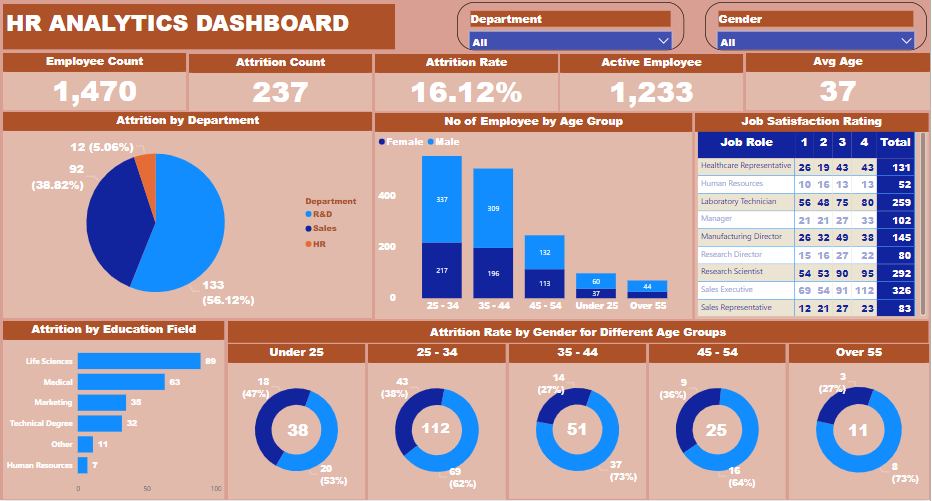

The page's visual inventory and layout, read from the dashboard file:
{"tool":"powerbi","page":{"name":"Page 1","canvas":[1580,850],"ordinal":0},"visuals":[{"type":"card","title":"Employee Count","fields":{"Values":["Sum(HR Table.Employee Count)"]},"box":[5,90.4,311.2,97],"z":0},{"type":"card","title":"Avg Age","fields":{"Values":["Avg(HR Table.Age)"]},"box":[1267.4,90,312.6,96.8],"z":1000},{"type":"card","title":"Attrition Count","fields":{"Values":["Sum(HR Table.Attrition Count)"]},"box":[321.3,92,311.2,97],"z":2000},{"type":"card","title":"Attrition Rate","fields":{"Values":["HR Table.Attrition Rate"]},"box":[637.5,92,311,97],"z":3000},{"type":"card","title":"Active Employee","fields":{"Values":["HR Table.Active Employeees"]},"box":[952.1,92,311,97],"z":4000},{"type":"pieChart","title":"Attrition by Department","fields":{"Category":["HR Table.Department"],"Y":["Sum(HR Table.Attrition Count)"]},"box":[5,190.7,627.5,349.7],"z":5000},{"type":"pivotTable","title":"Job Satisfaction Rating","fields":{"Rows":["HR Table.Job Role"],"Values":["Sum(HR Table.Employee Count)"],"Columns":["HR Table.Job Satisfaction"]},"box":[1181.3,192.4,396.6,349.7],"z":6000},{"type":"columnChart","title":"No of Employee by Age Group","fields":{"Category":["HR Table.CF_age band"],"Y":["Sum(HR Table.Employee Count)"],"Series":["HR Table.Gender"]},"box":[637.5,192.4,538.8,349.7],"z":7000},{"type":"barChart","title":"Attrition by Education Field","fields":{"Category":["HR Table.Education Field"],"Y":["Sum(HR Table.Attrition Count)"]},"box":[5,545.5,376.5,302.9],"z":8000},{"type":"donutChart","title":"Under 25","fields":{"Category":["HR Table.Gender"],"Y":["Sum(HR Table.Attrition Count)"],"Series":["HR Table.CF_age band"]},"box":[388.2,584,232.6,264.4],"z":9000},{"type":"donutChart","title":"25 - 34","fields":{"Category":["HR Table.Gender"],"Y":["Sum(HR Table.Attrition Count)"],"Series":["HR Table.CF_age band"]},"box":[625,584.4,234.1,265.5],"z":10000},{"type":"textbox","box":[388.2,545.5,1189.7,36.8],"z":11000},{"type":"donutChart","title":"35 - 44","fields":{"Category":["HR Table.Gender"],"Y":["Sum(HR Table.Attrition Count)"],"Series":["HR Table.CF_age band"]},"box":[864.8,584.4,232.8,263.3],"z":12000},{"type":"donutChart","title":"45 - 54","fields":{"Category":["HR Table.Gender"],"Y":["Sum(HR Table.Attrition Count)"],"Series":["HR Table.CF_age band"]},"box":[1102.5,584.4,232.3,263.6],"z":13000},{"type":"donutChart","title":"Over 55","fields":{"Category":["HR Table.Gender"],"Y":["Sum(HR Table.Attrition Count)"],"Series":["HR Table.CF_age band"]},"box":[1340.3,584,237.6,264.4],"z":14000},{"type":"card","fields":{"Values":["Sum(HR Table.Attrition Count)"]},"box":[476.9,702.8,56.9,56.9],"z":15000},{"type":"card","fields":{"Values":["Sum(HR Table.Attrition Count)"]},"box":[1430.6,702.8,55.2,55.2],"z":16000},{"type":"card","fields":{"Values":["Sum(HR Table.Attrition Count)"]},"box":[1189.7,702.8,55.2,55.2],"z":17000},{"type":"card","fields":{"Values":["Sum(HR Table.Attrition Count)"]},"box":[953.2,702.4,55.3,55.3],"z":18000},{"type":"card","fields":{"Values":["Sum(HR Table.Attrition Count)"]},"box":[708,696.9,62.7,60.8],"z":19000},{"type":"textbox","box":[5.5,7.4,665.6,77.4],"z":20000},{"type":"slicer","fields":{"Values":["HR Table.Department"]},"box":[776.4,3.4,385.7,81.5],"z":21000},{"type":"slicer","fields":{"Values":["HR Table.Gender"]},"box":[1197.7,3.4,377.2,81.5],"z":22000}]}

Visuals, with their boxes in screenshot pixels (x1, y1, x2, y2), scaled from the page's 1580x850 canvas onto the 932x501 screenshot:
"Employee Count" card: pyautogui.locateOnScreen(3, 53, 187, 110)
"Avg Age" card: pyautogui.locateOnScreen(748, 53, 931, 110)
"Attrition Count" card: pyautogui.locateOnScreen(190, 54, 373, 111)
"Attrition Rate" card: pyautogui.locateOnScreen(376, 54, 559, 111)
"Active Employee" card: pyautogui.locateOnScreen(562, 54, 745, 111)
"Attrition by Department" pieChart: pyautogui.locateOnScreen(3, 112, 373, 319)
"Job Satisfaction Rating" pivotTable: pyautogui.locateOnScreen(697, 113, 931, 320)
"No of Employee by Age Group" columnChart: pyautogui.locateOnScreen(376, 113, 694, 320)
"Attrition by Education Field" barChart: pyautogui.locateOnScreen(3, 322, 225, 500)
"Under 25" donutChart: pyautogui.locateOnScreen(229, 344, 366, 500)
"25 - 34" donutChart: pyautogui.locateOnScreen(369, 344, 507, 500)
textbox: pyautogui.locateOnScreen(229, 322, 931, 343)
"35 - 44" donutChart: pyautogui.locateOnScreen(510, 344, 647, 500)
"45 - 54" donutChart: pyautogui.locateOnScreen(650, 344, 787, 500)
"Over 55" donutChart: pyautogui.locateOnScreen(791, 344, 931, 500)
card - Sum(HR Table.Attrition Count): pyautogui.locateOnScreen(281, 414, 315, 448)
card - Sum(HR Table.Attrition Count): pyautogui.locateOnScreen(844, 414, 876, 447)
card - Sum(HR Table.Attrition Count): pyautogui.locateOnScreen(702, 414, 734, 447)
card - Sum(HR Table.Attrition Count): pyautogui.locateOnScreen(562, 414, 595, 447)
card - Sum(HR Table.Attrition Count): pyautogui.locateOnScreen(418, 411, 455, 447)
textbox: pyautogui.locateOnScreen(3, 4, 396, 50)
slicer - HR Table.Department: pyautogui.locateOnScreen(458, 2, 685, 50)
slicer - HR Table.Gender: pyautogui.locateOnScreen(706, 2, 929, 50)
